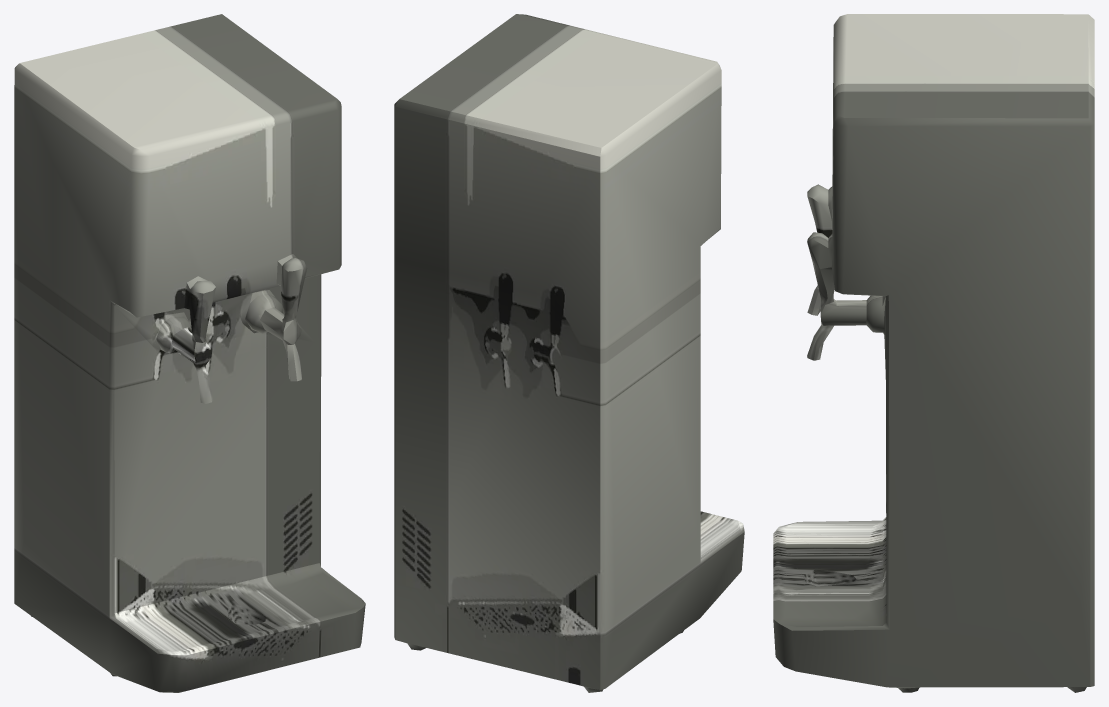
The picture shows the model from 3 angles, left to right: view 1: azimuth 30°, elevation 25°; view 2: azimuth 150°, elevation 25°; view 3: azimuth 270°, elevation 25°; orthographic projection. The views are drawn at different scales.
Visible parts, largest first — view 1: Decor_drink_dispenser_a; view 2: Decor_drink_dispenser_a; view 3: Decor_drink_dispenser_a.
Boxes of the visible parts, bbox=[...] form: Decor_drink_dispenser_a: bbox=[14, 14, 365, 692]; Decor_drink_dispenser_a: bbox=[394, 14, 744, 692]; Decor_drink_dispenser_a: bbox=[773, 14, 1094, 692].
Size of the model in its own units: 0.7223 by 1.79 by 0.9045.
Materials: 1 (1 with a texture image).
